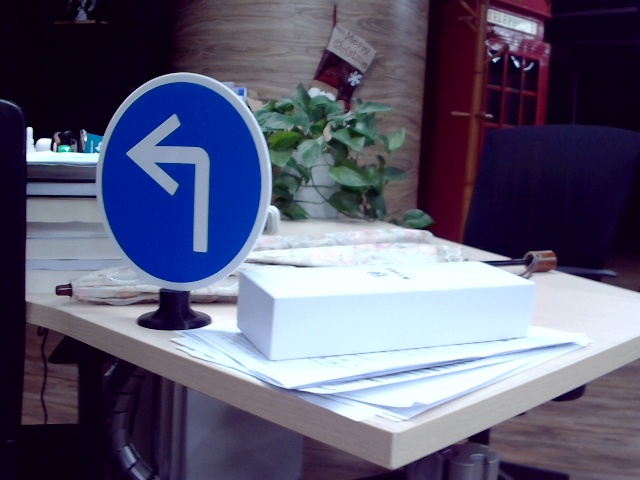turn_left: (125, 110, 220, 258)
